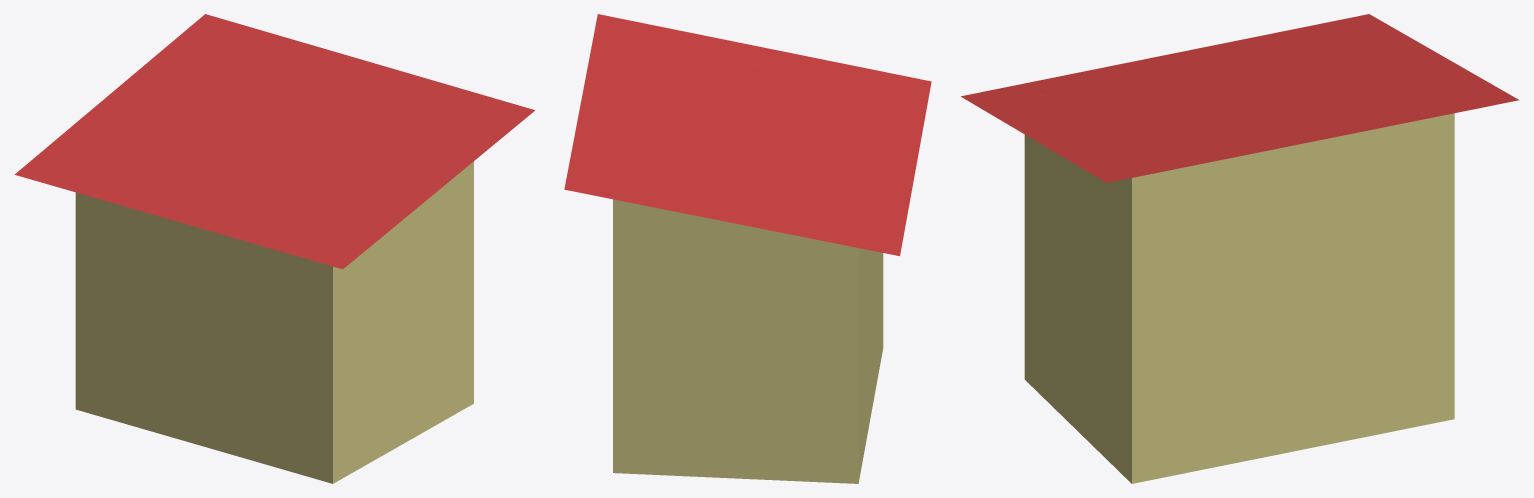
3 views of the same model, side by side, from view 1: azimuth 30°, elevation 25°; view 2: azimuth 150°, elevation 25°; view 3: azimuth 270°, elevation 25° (orthographic). The views are drawn at different scales.
Bounding box in the file's own units: 8.09 × 8.48 × 5.51.
